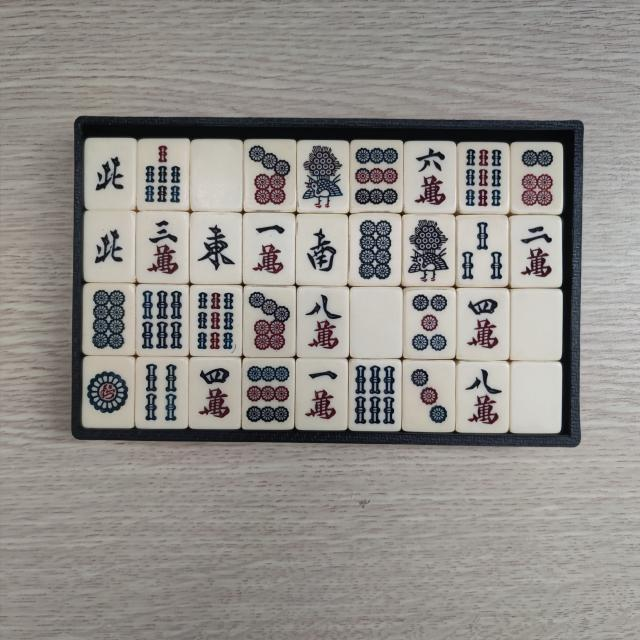hdw: (196, 144, 239, 208), (356, 291, 399, 353), (516, 294, 556, 356), (518, 366, 556, 428)
hwe: (194, 217, 238, 279)
hwn: (88, 215, 128, 278), (92, 145, 133, 206)
hws: (302, 220, 344, 280)
sb1: (302, 144, 348, 211), (407, 218, 452, 284)
sb3: (462, 221, 507, 285)
sb4: (142, 361, 184, 424)
sb6: (141, 288, 187, 352), (354, 363, 399, 427)
sb7: (142, 142, 186, 206)
sb9: (463, 148, 506, 212), (194, 290, 237, 353)
sc1: (248, 218, 290, 280), (302, 366, 342, 426)
sc2: (516, 220, 556, 282)
sc3: (142, 216, 185, 278)
sc4: (194, 362, 236, 423), (462, 292, 502, 354)
sc6: (409, 146, 451, 210)
sc8: (302, 290, 346, 353), (463, 368, 506, 430)
sd1: (86, 362, 132, 426)
sd3: (408, 364, 450, 427)
sd5: (408, 294, 451, 356)
sd6: (517, 148, 558, 210)
sd7: (248, 144, 294, 209), (247, 290, 292, 354)
sd8: (355, 218, 398, 284), (88, 288, 130, 352)
sd9: (353, 143, 399, 207), (246, 361, 292, 424)
